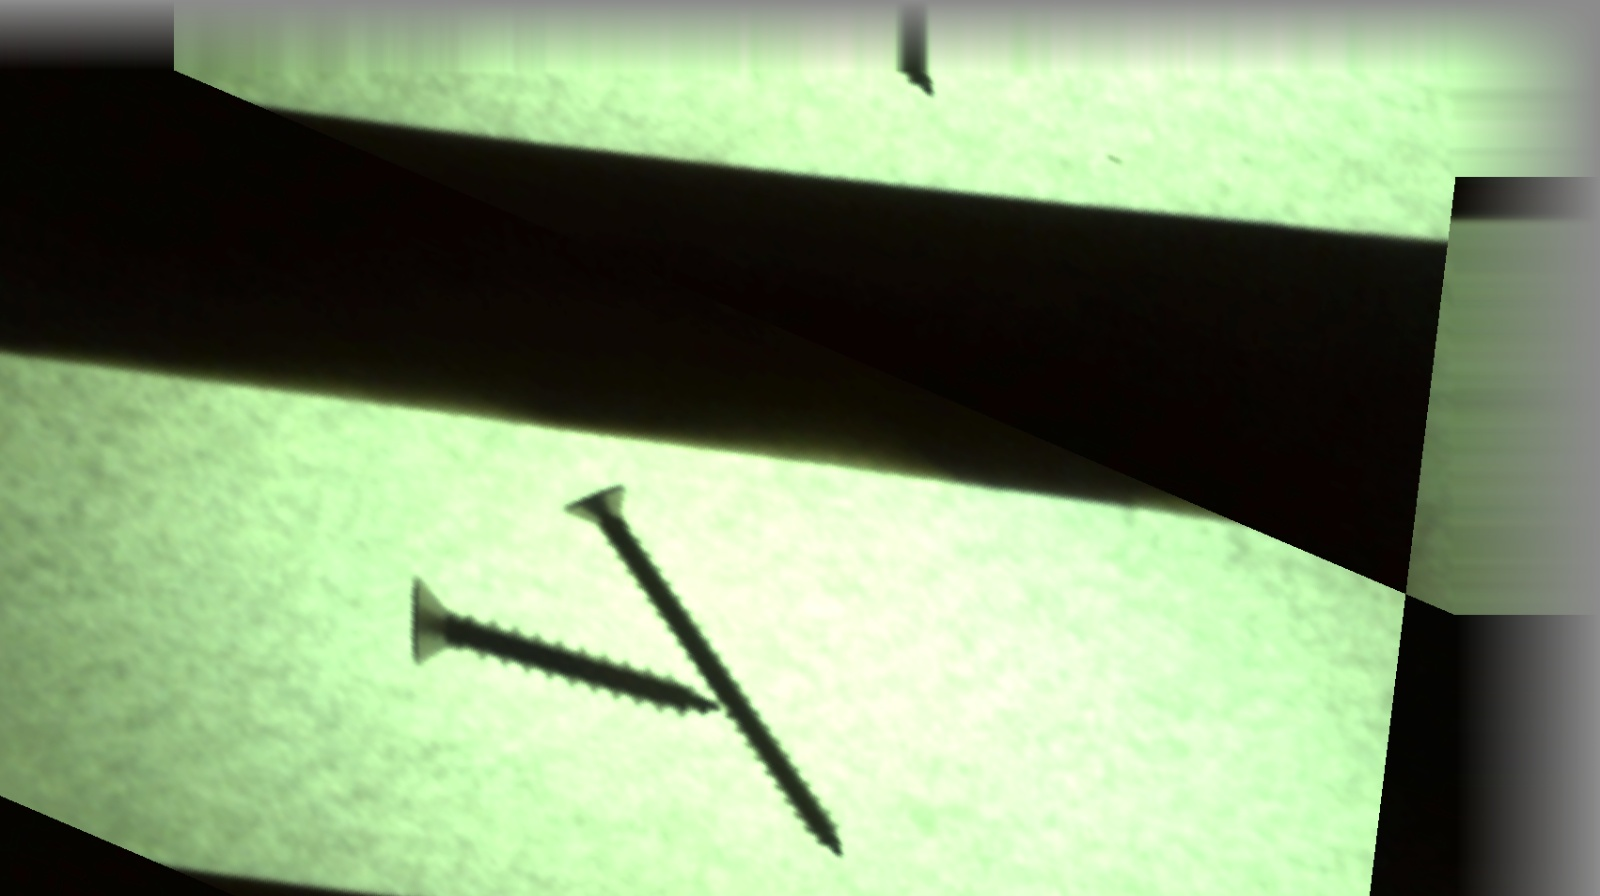S001: (396, 567, 719, 792)
S002: (514, 455, 896, 862)
